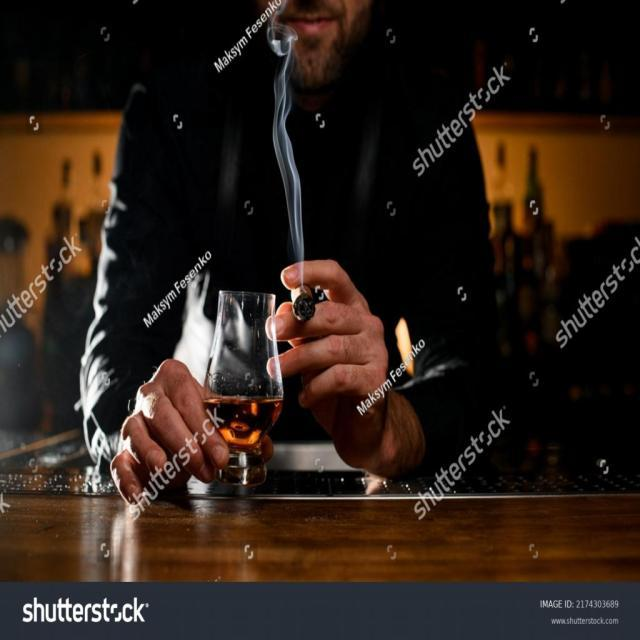smoking: (287, 282, 319, 324)
